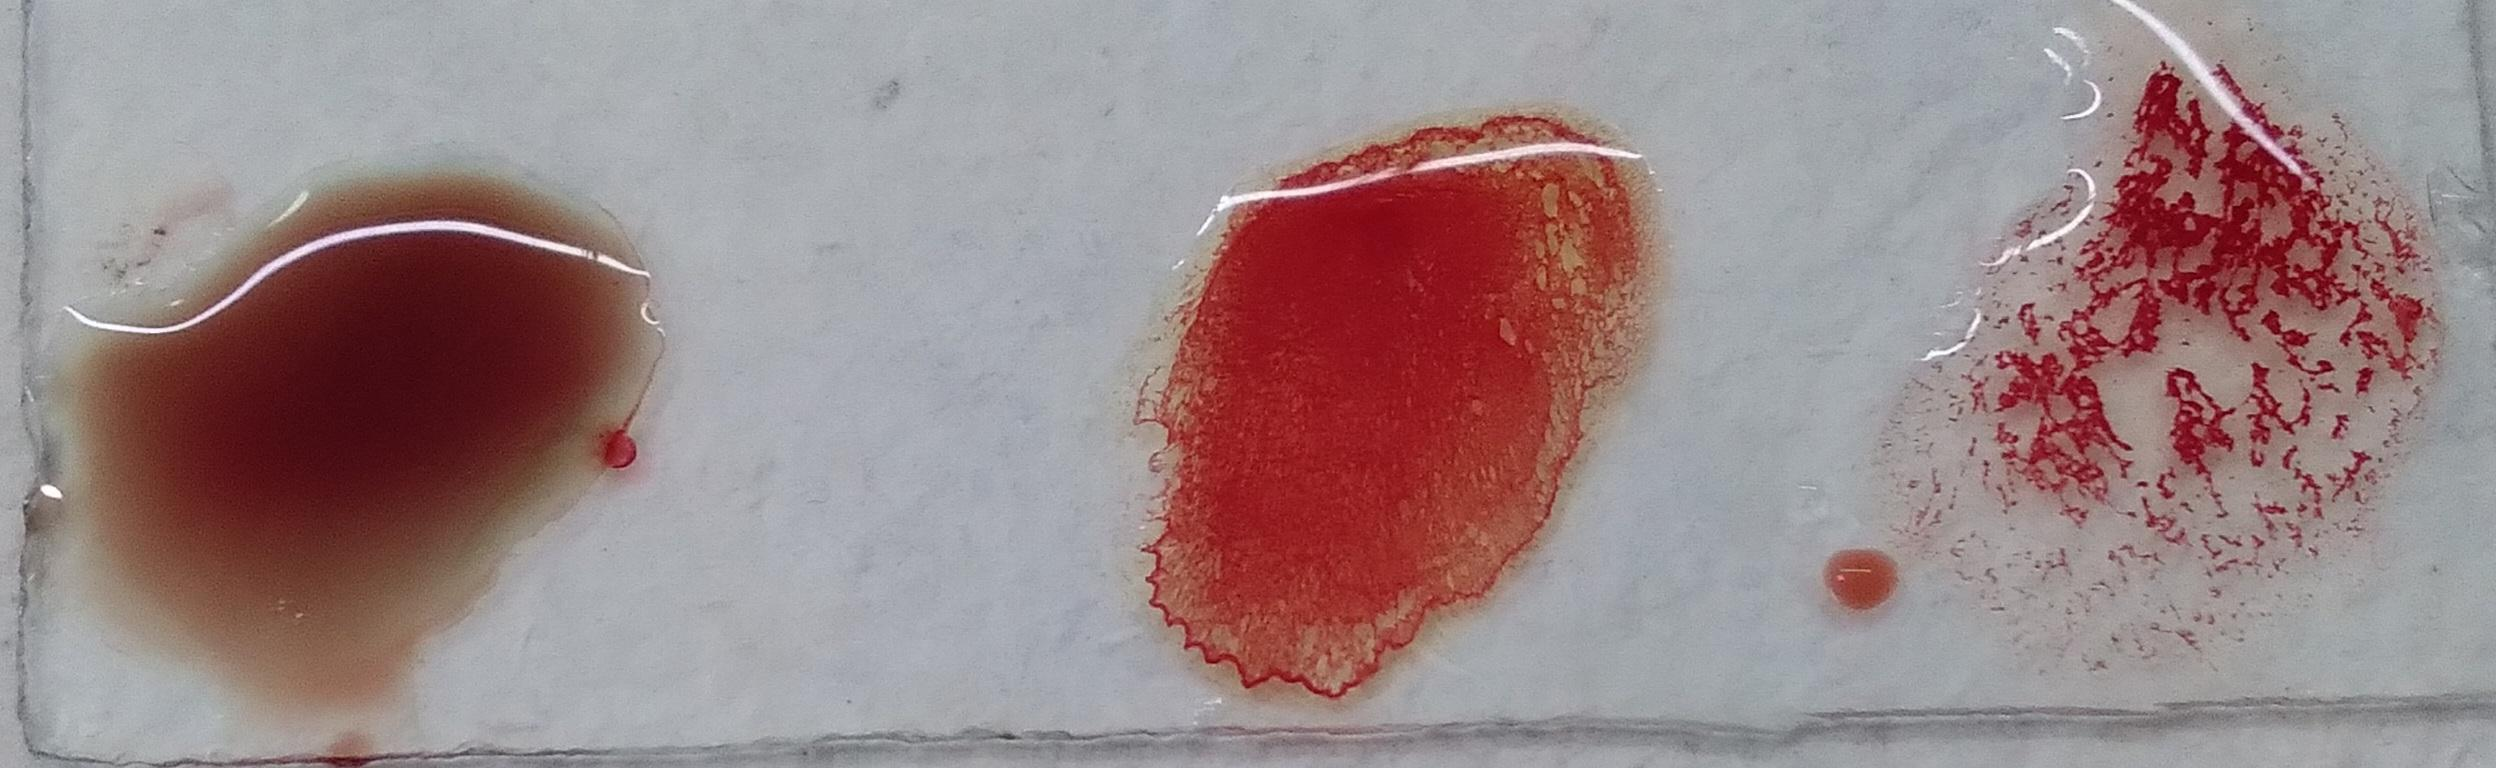B: (847, 49, 1366, 676)
D: (40, 88, 600, 747)
